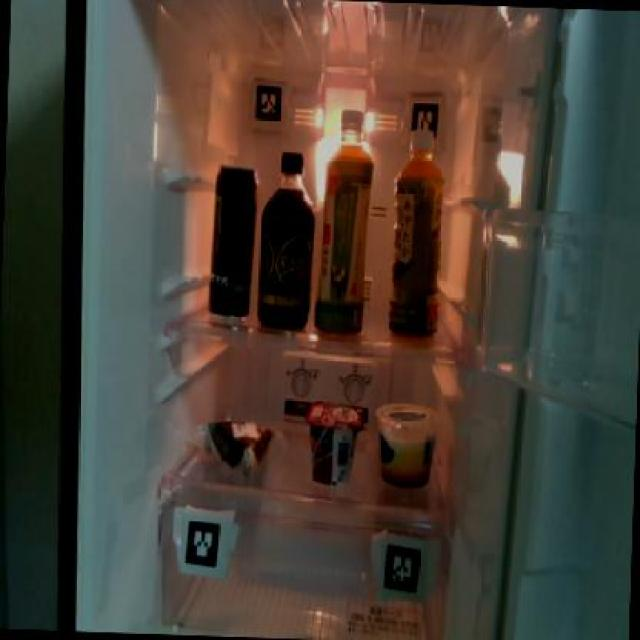coffee: (256, 145, 316, 330)
energy_drink: (206, 158, 259, 319)
pudding: (373, 398, 441, 487)
rice_ball: (194, 409, 274, 478)
tea_a: (387, 132, 447, 336)
tea_i: (313, 99, 376, 338)
yogurt: (302, 398, 362, 488)
